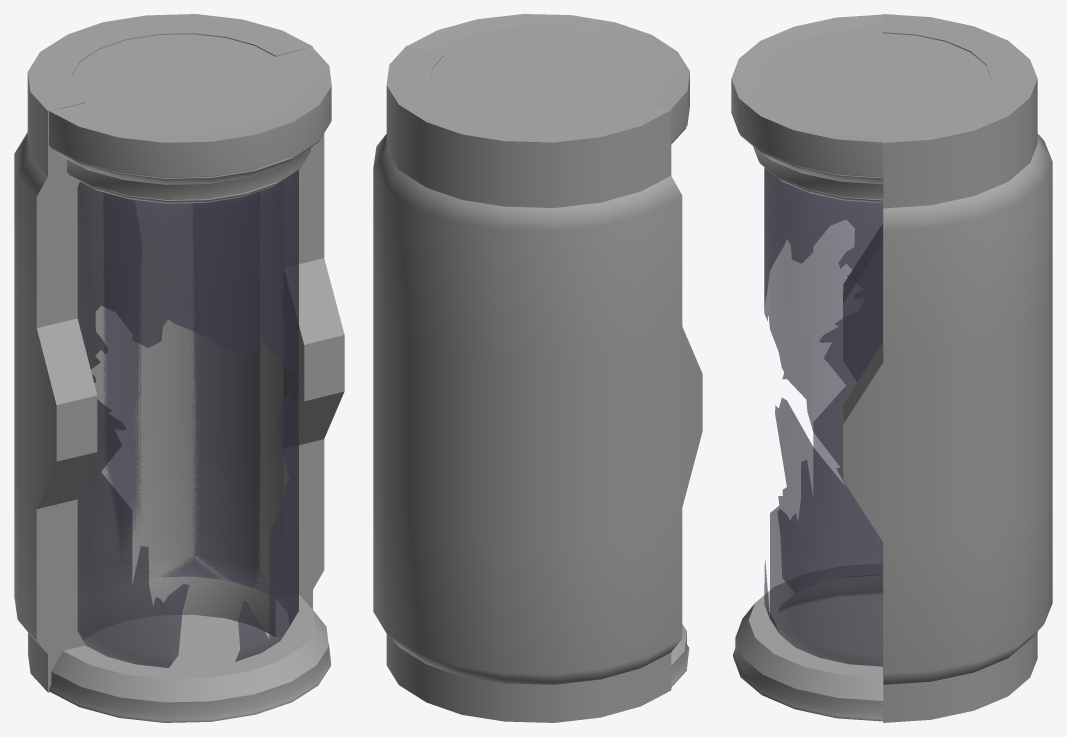
File: Environment_TubeCracked_002_Blockout.fbx
3 renders of one model, left to right at view 1: azimuth 30°, elevation 25°; view 2: azimuth 150°, elevation 25°; view 3: azimuth 270°, elevation 25°, orthographic.
Parts seen in each view (by area): view 1: polySurface45; view 2: polySurface45; view 3: polySurface45.
Part boxes in pixels (x1,y1,x2,y2): polySurface45: [14, 14, 344, 722]; polySurface45: [373, 14, 702, 722]; polySurface45: [731, 14, 1052, 722].
Size of the model in its own units: 175 by 338 by 170.
